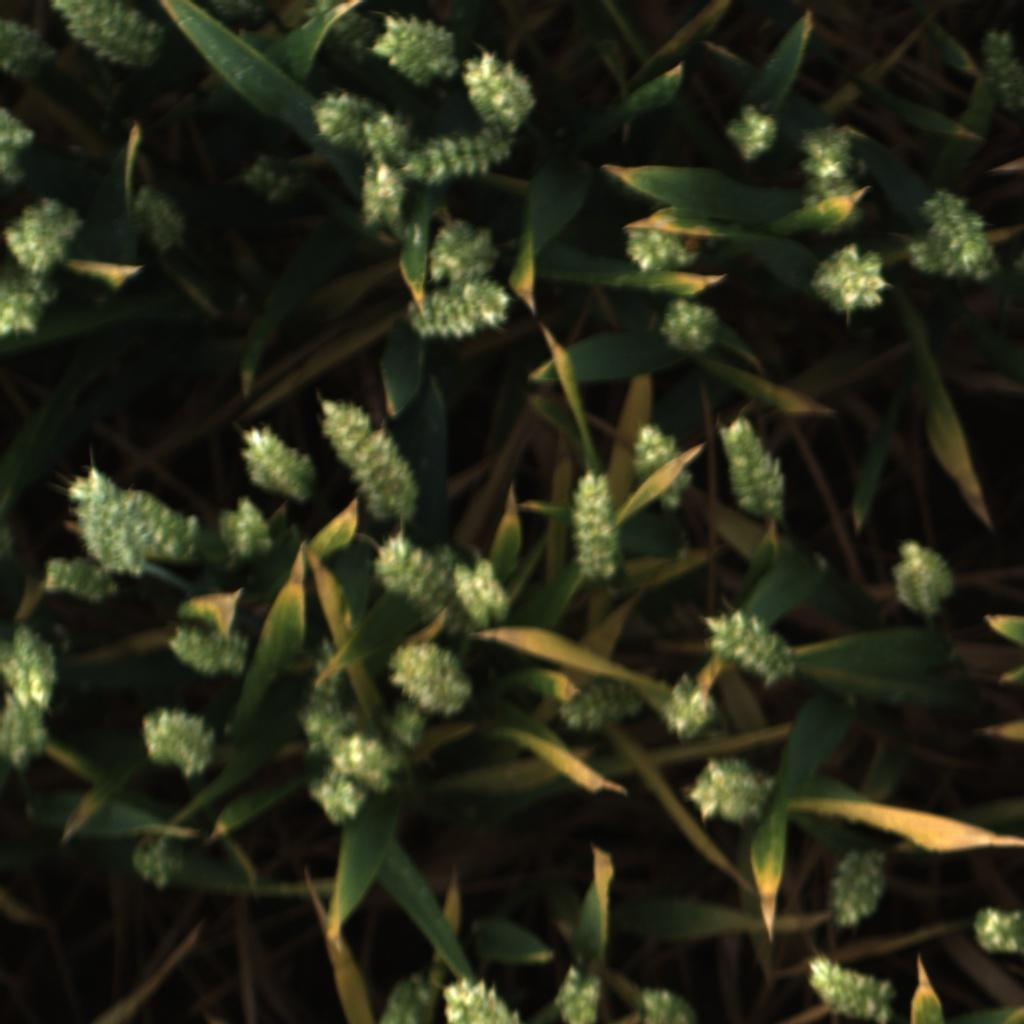0-0: (318, 393, 428, 527), (48, 0, 177, 73), (67, 467, 148, 578), (701, 606, 802, 692), (370, 531, 461, 622), (915, 190, 997, 287), (382, 641, 480, 720), (791, 110, 873, 204), (368, 13, 466, 89), (799, 950, 899, 1024), (122, 478, 207, 564), (457, 43, 539, 132), (233, 419, 318, 504), (685, 752, 777, 830), (408, 275, 518, 340), (2, 194, 89, 276), (719, 418, 791, 517), (887, 533, 963, 624), (566, 468, 624, 587), (551, 669, 644, 740), (809, 238, 891, 318), (288, 686, 368, 768), (139, 705, 222, 784), (825, 843, 899, 931), (408, 128, 512, 189), (629, 421, 695, 512), (429, 208, 506, 285), (301, 0, 379, 72), (323, 727, 402, 795), (450, 556, 523, 629), (162, 623, 253, 681), (124, 832, 198, 902), (904, 236, 1002, 288), (308, 81, 375, 156), (305, 765, 379, 832), (973, 22, 1024, 118), (37, 552, 120, 609), (0, 269, 64, 342), (135, 177, 193, 257), (1, 626, 56, 708), (354, 159, 407, 243), (442, 975, 532, 1024), (661, 671, 721, 743), (220, 496, 278, 569), (620, 222, 697, 276), (721, 100, 785, 164), (660, 298, 725, 357), (966, 898, 1024, 964), (1, 706, 51, 779), (360, 105, 417, 167), (367, 968, 430, 1024), (235, 151, 297, 204), (0, 16, 43, 87), (0, 104, 37, 184), (551, 968, 603, 1024), (640, 983, 704, 1024), (310, 635, 346, 701), (387, 704, 429, 753), (209, 1, 266, 31)
